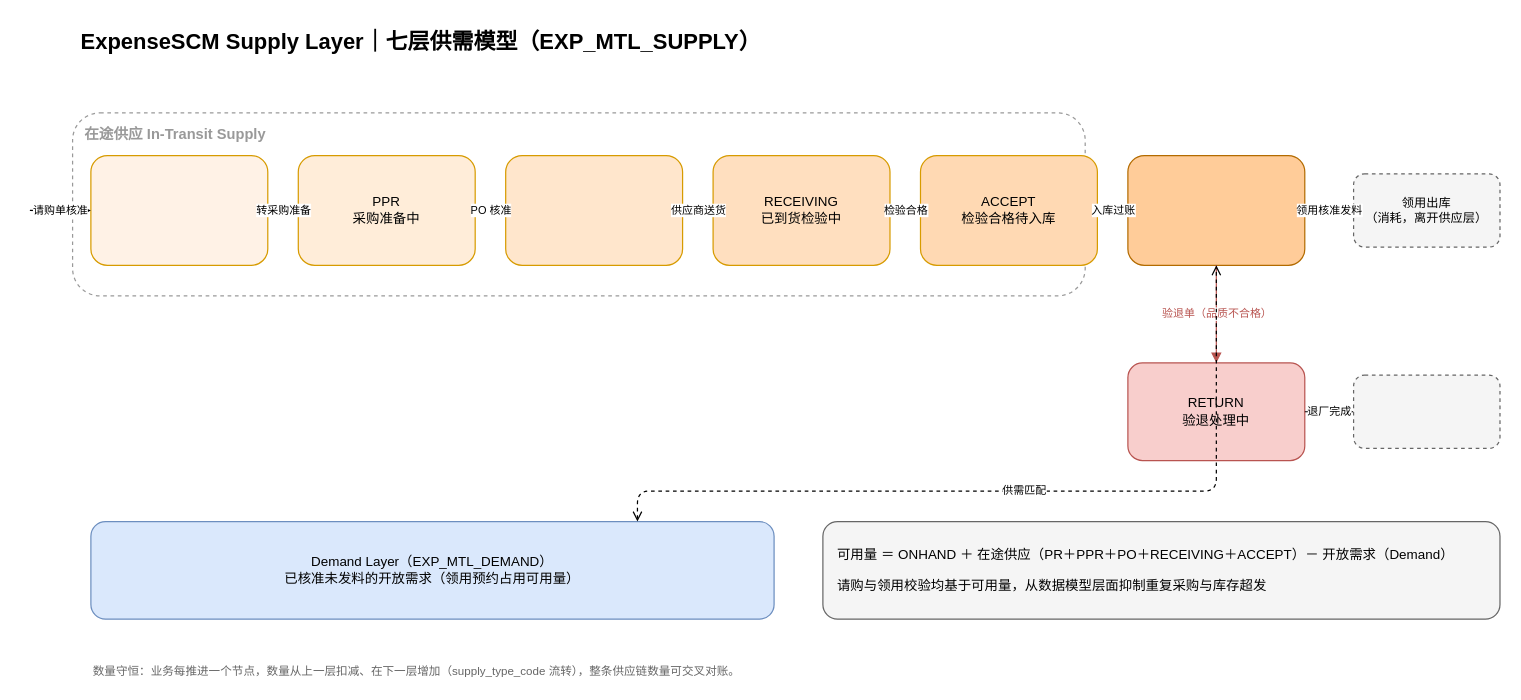
Image size: 1521x700. Some labels were removed from this diagram. The shapes that lost their labels are listed below. From the top down, each one's centre as x and y in pixels, then its label:
[179,209]: PR 已请购未转采购
[593,209]: PO 已下单未到货（在途）
[1216,209]: ONHAND 在库可用
[1426,411]: 退回供应商 （冲减库存与成本）
